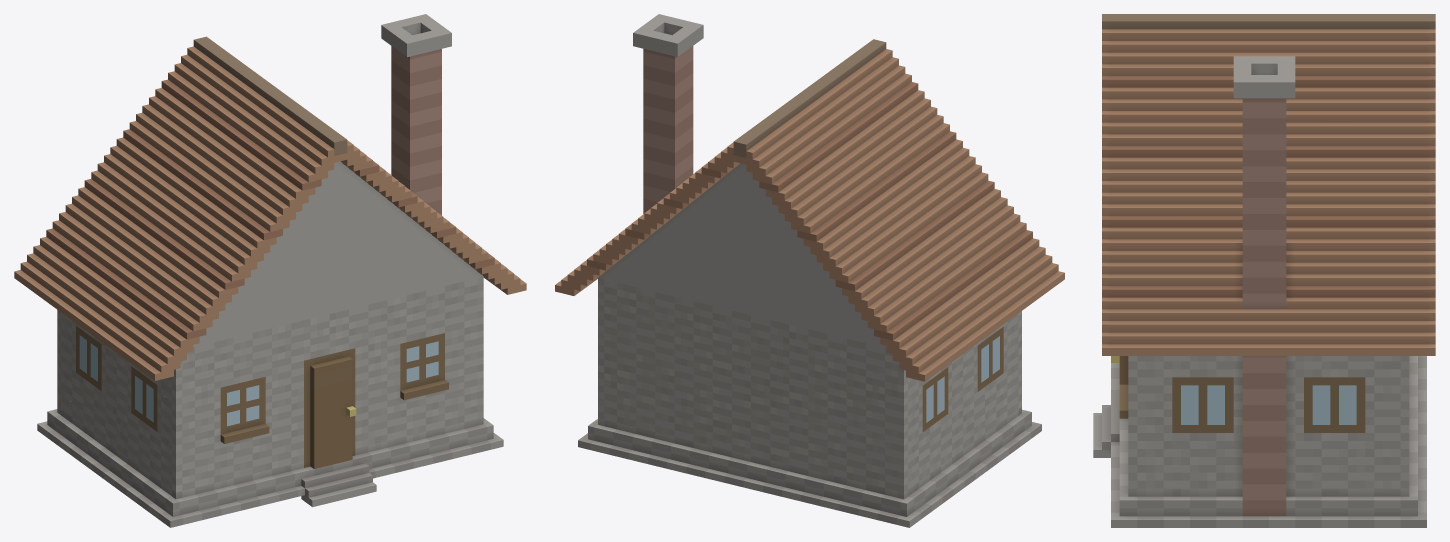
File: maison_auberge.glb
3 views of the same model, side by side, from view 1: azimuth 30°, elevation 25°; view 2: azimuth 150°, elevation 25°; view 3: azimuth 270°, elevation 25° (orthographic). The views are drawn at different scales.
Visible parts, largest first — view 1: geometry_0; view 2: geometry_0; view 3: geometry_0.
Boxes of the visible parts, bbox=[...] form: geometry_0: bbox=[14, 14, 526, 527]; geometry_0: bbox=[555, 14, 1064, 527]; geometry_0: bbox=[1093, 14, 1435, 527].
Bounding box in the file's own units: 7.25 × 7.12 × 4.88.
